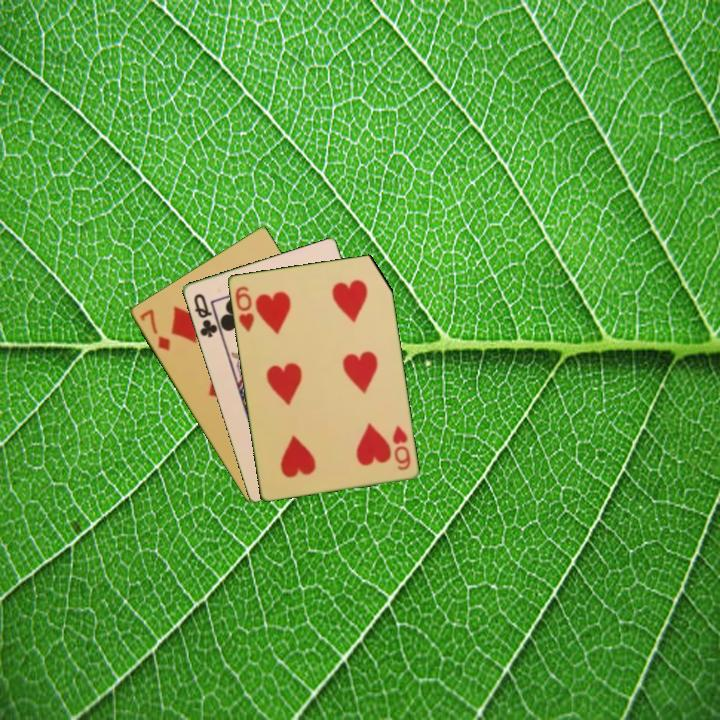6h: (231, 282, 257, 335), (389, 421, 413, 473)
7d: (136, 305, 173, 354)
Qc: (190, 290, 223, 341)
